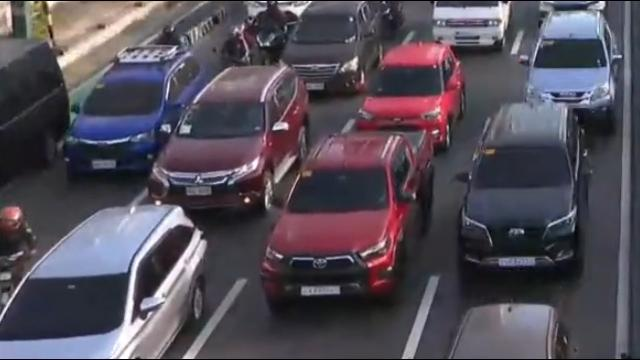car: (0, 206, 209, 360), (149, 66, 309, 214), (460, 103, 587, 286), (68, 45, 198, 178), (519, 15, 622, 131), (354, 43, 465, 149), (272, 2, 381, 94), (435, 304, 576, 360)
motorcycle: (0, 202, 41, 322), (214, 15, 260, 89), (154, 22, 188, 53)
pickup-truck: (263, 127, 432, 304)
van: (0, 38, 72, 190), (430, 0, 513, 52)
